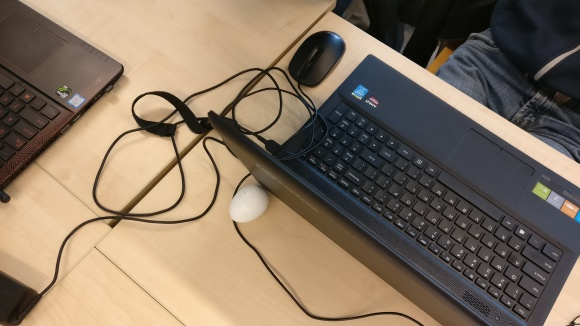egg: (227, 183, 270, 226)
